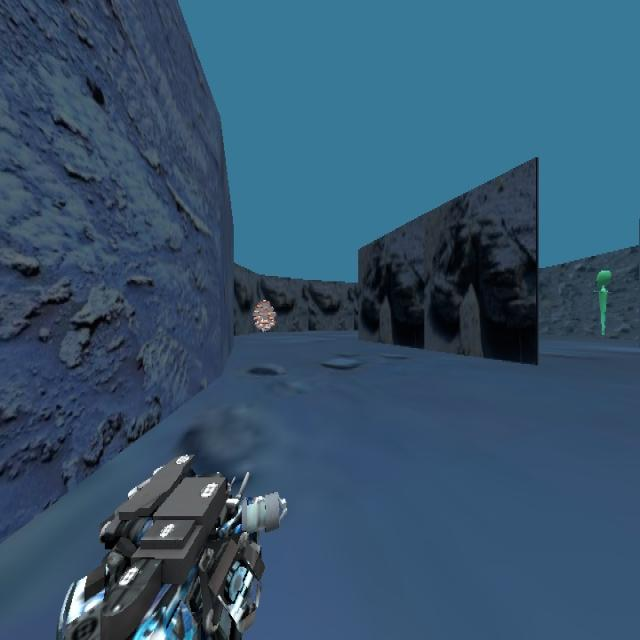Alien: (593, 268, 611, 336)
Mushroom: (253, 281, 290, 342)
